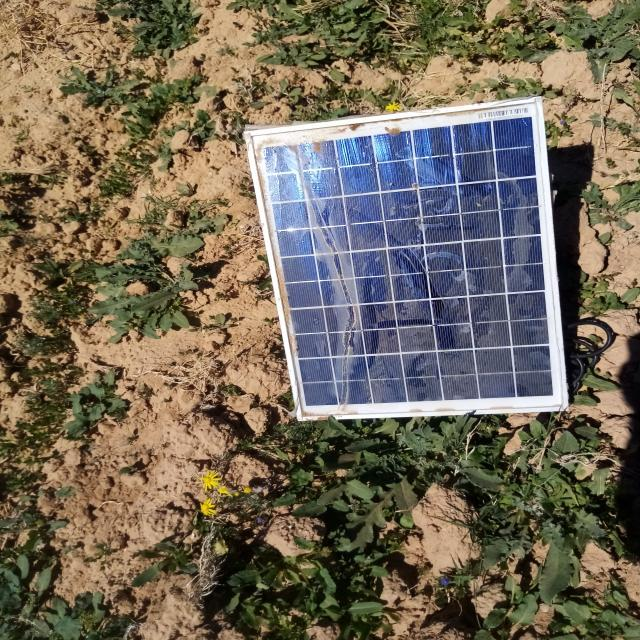faulty: (248, 99, 565, 419)
